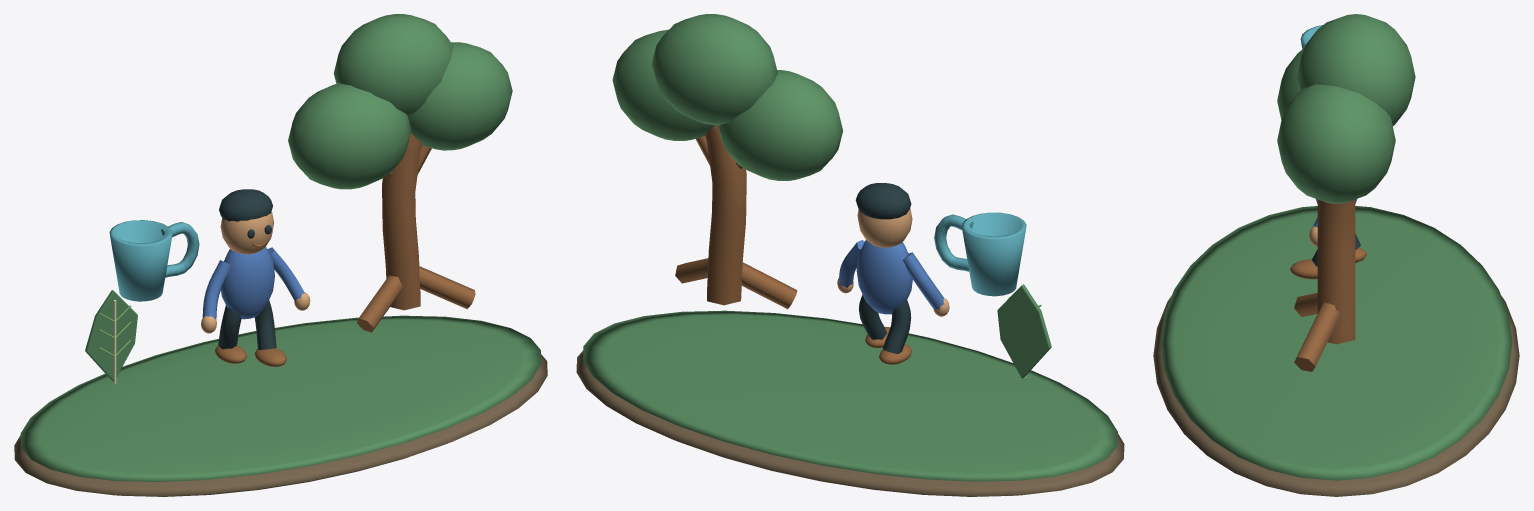
File: tea-leaves.glb
3 views of the same model, side by side, from view 1: azimuth 30°, elevation 25°; view 2: azimuth 150°, elevation 25°; view 3: azimuth 270°, elevation 25° (orthographic). The views are drawn at different scales.
Visible parts, largest first — view 1: tea-leaves_surface_01, tea-leaves_surface_00, tea-leaves_surface_06, tea-leaves_surface_08, tea-leaves_surface_07, tea-leaves_surface_05, tea-leaves_surface_04; view 2: tea-leaves_surface_01, tea-leaves_surface_00, tea-leaves_surface_06, tea-leaves_surface_08, tea-leaves_surface_07, tea-leaves_surface_05, tea-leaves_surface_04; view 3: tea-leaves_surface_01, tea-leaves_surface_00, tea-leaves_surface_06.
Part boxes in pixels (x1,y1,x2,y2): tea-leaves_surface_01: (20,14,541,481); tea-leaves_surface_00: (14,354,547,496); tea-leaves_surface_06: (215,132,475,366); tea-leaves_surface_08: (109,220,199,301); tea-leaves_surface_07: (202,247,304,319); tea-leaves_surface_05: (218,189,276,349); tea-leaves_surface_04: (201,211,310,333); tea-leaves_surface_01: (583,14,1117,481); tea-leaves_surface_00: (576,350,1124,496); tea-leaves_surface_06: (675,125,911,364); tea-leaves_surface_08: (934,212,1026,296); tea-leaves_surface_07: (839,240,944,314); tea-leaves_surface_05: (855,183,911,353); tea-leaves_surface_04: (837,208,949,316); tea-leaves_surface_01: (1160,14,1512,480); tea-leaves_surface_00: (1153,295,1519,496); tea-leaves_surface_06: (1290,199,1366,371).
Size of the model in its own units: 4.56 by 3.16 by 2.5.
